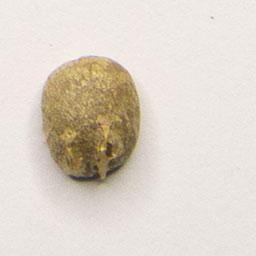premium: (38, 52, 143, 182)
